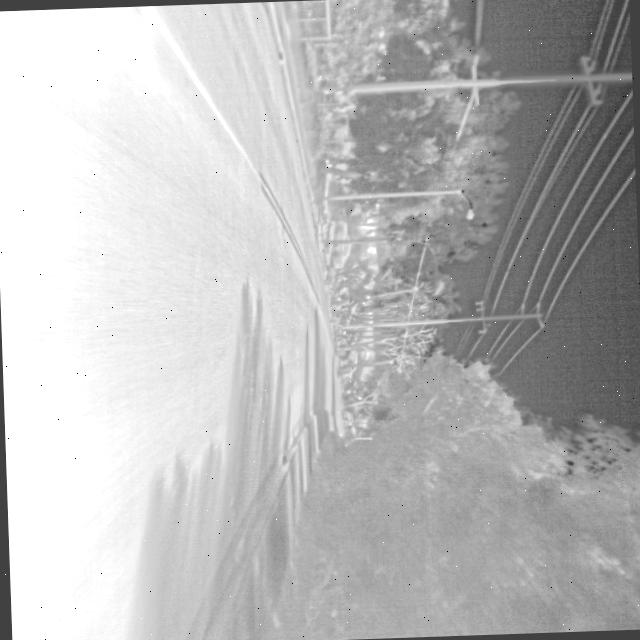Vehicle: (326, 216, 355, 271)
